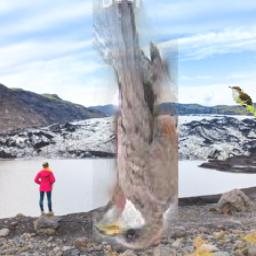Cuckoo: (94, 0, 179, 249), (229, 85, 256, 123)
